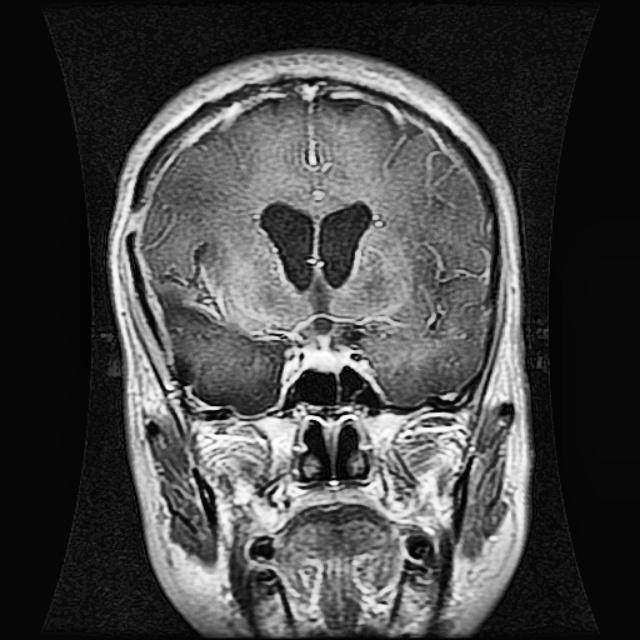Meningioma: (157, 282, 297, 412)
